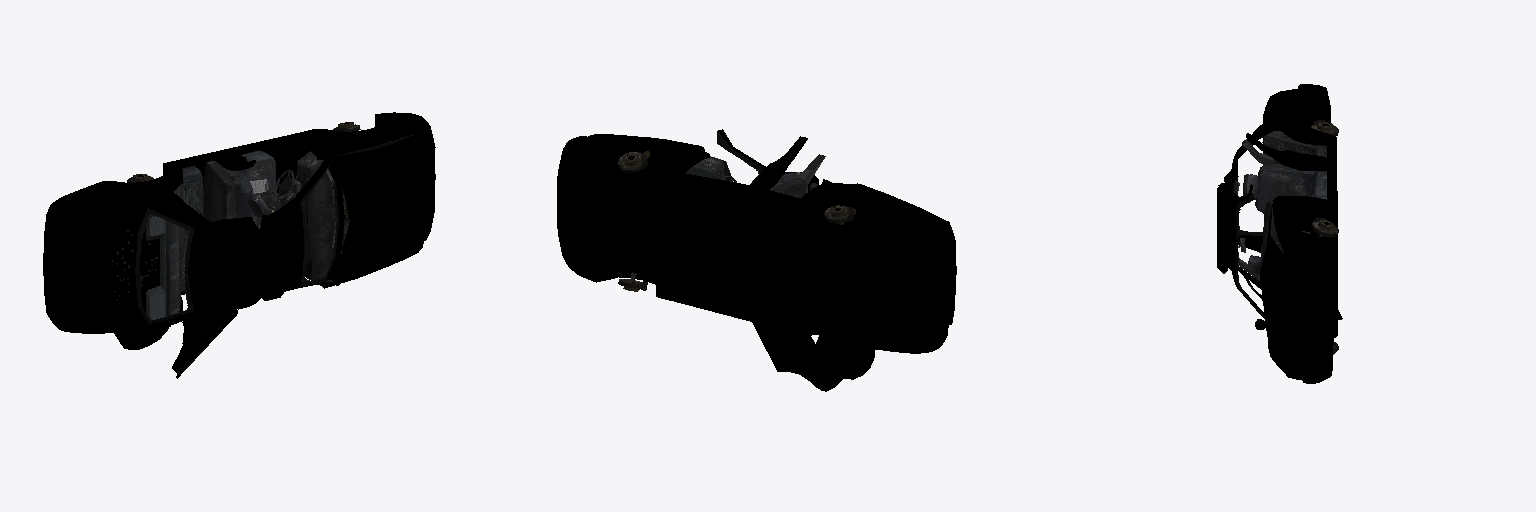
3 renders of one model, left to right at view 1: azimuth 30°, elevation 25°; view 2: azimuth 150°, elevation 25°; view 3: azimuth 270°, elevation 25°, orthographic.
Parts seen in each view (by area): view 1: mtl_policecar_russia_destroy, mtl_policecar_interior_destroy, mtl_policecar_interior_destroy_plastic, mtl_policecar_lapd_destroy_plastic, mtl_policecar_glass_destroy_inside, mtl_policecar_interior; view 2: mtl_suburban_bottom, mtl_policecar_russia_destroy, mtl_policecar_interior_destroy_metal, mtl_policecar_interior_destroy, mtl_policecar_interior_destroy_plastic; view 3: mtl_policecar_russia_destroy, mtl_policecar_interior_destroy, mtl_policecar_lapd_destroy_plastic, mtl_policecar_interior_destroy_metal, mtl_suburban_bottom, mtl_policecar_glass_destroy_inside.
Part boxes in pixels (x1,y1,x2,y2): mtl_policecar_russia_destroy: (43,112,435,378); mtl_policecar_interior_destroy: (166,150,293,316); mtl_policecar_interior_destroy_plastic: (249,151,336,279); mtl_policecar_lapd_destroy_plastic: (63,208,283,333); mtl_policecar_glass_destroy_inside: (112,160,338,366); mtl_policecar_interior: (146,216,165,320); mtl_suburban_bottom: (559,151,936,353); mtl_policecar_russia_destroy: (557,129,956,391); mtl_policecar_interior_destroy_metal: (618,151,855,291); mtl_policecar_interior_destroy: (769,154,825,198); mtl_policecar_interior_destroy_plastic: (686,156,736,182); mtl_policecar_russia_destroy: (1218,84,1342,383); mtl_policecar_interior_destroy: (1233,131,1326,280); mtl_policecar_lapd_destroy_plastic: (1217,183,1227,273); mtl_policecar_interior_destroy_metal: (1301,120,1338,354); mtl_suburban_bottom: (1332,235,1337,370); mtl_policecar_glass_destroy_inside: (1236,136,1266,318).
Size of the model in its own units: 585 by 323 by 164.
11 materials, 6 textured.